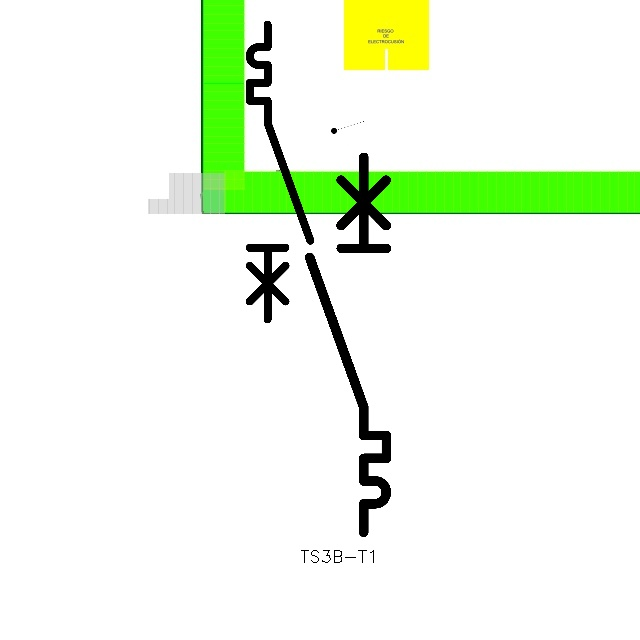interruptor_termomagnetico: (300, 147, 396, 542), (242, 17, 318, 327)
